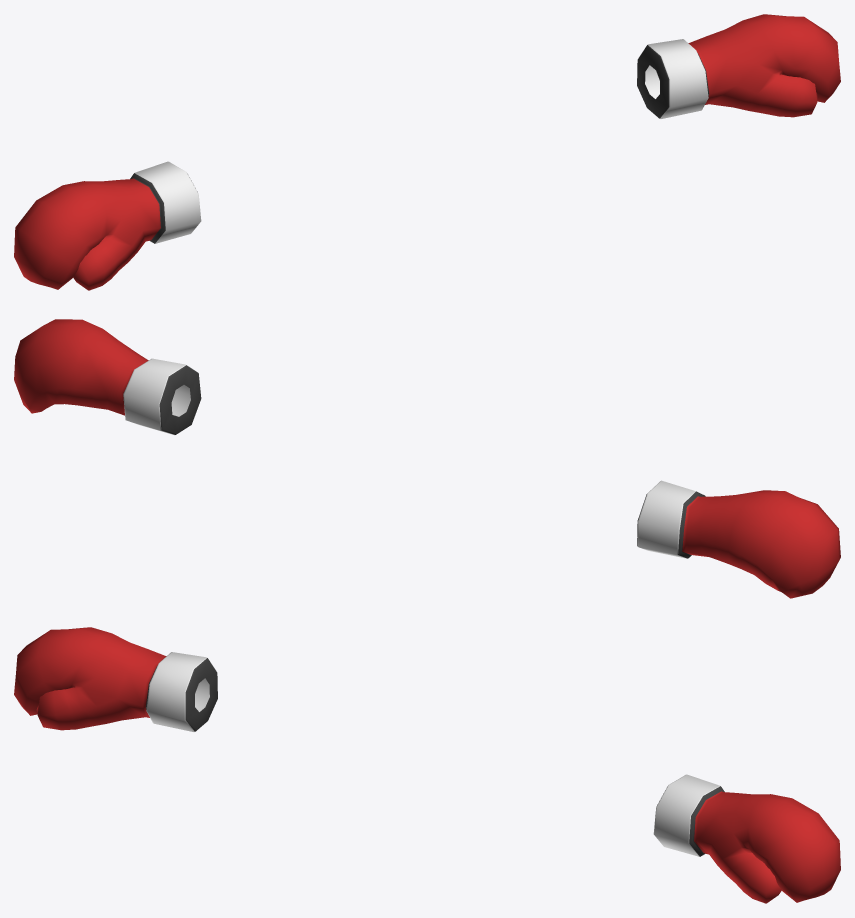
File: Glove_001.glb
The picture shows the model from 3 angles, top to bottom: view 1: azimuth 30°, elevation 25°; view 2: azimuth 150°, elevation 25°; view 3: azimuth 330°, elevation 25°; orthographic projection.
Parts seen in each view (by area): view 1: Glove_001; view 2: Glove_001; view 3: Glove_001.
Boxes of the visible parts, x1,y1,x2,y2 form: Glove_001: [14, 14, 840, 290]; Glove_001: [14, 319, 840, 598]; Glove_001: [14, 627, 840, 903].
Size of the model in its own units: 1.87 by 0.1908 by 0.2168.
1 material, 1 textured.
